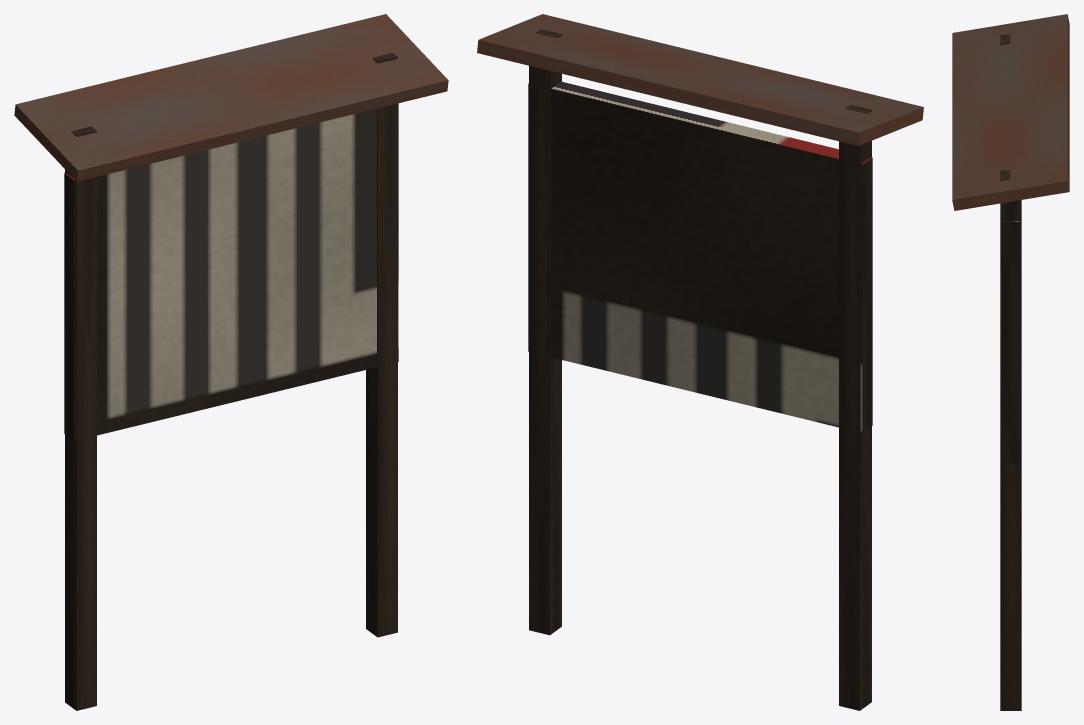
Rendered from missing_board_1994_1k.gltf.
The picture shows the model from 3 angles, left to right: view 1: azimuth 30°, elevation 25°; view 2: azimuth 150°, elevation 25°; view 3: azimuth 270°, elevation 25°; orthographic projection. The views are drawn at different scales.
Parts seen in each view (by area): view 1: missing_board_1994; view 2: missing_board_1994; view 3: missing_board_1994.
Boxes of the visible parts, bbox=[...] form: missing_board_1994: bbox=[14, 14, 448, 710]; missing_board_1994: bbox=[477, 14, 923, 710]; missing_board_1994: bbox=[952, 14, 1069, 710].
Size of the model in its own units: 1.28 by 1.93 by 0.381.
3 materials, 3 textured.
